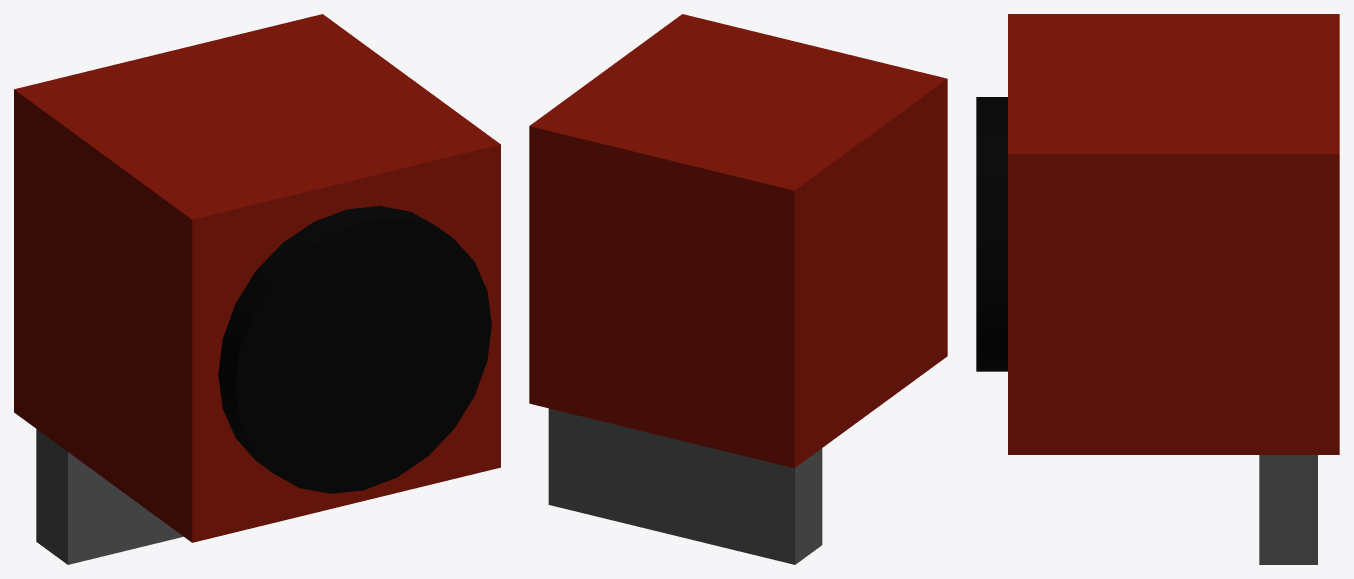
Rendered from heavy_gun_blockot_v1.fbx.
3 renders of one model, left to right at view 1: azimuth 30°, elevation 25°; view 2: azimuth 150°, elevation 25°; view 3: azimuth 270°, elevation 25°, orthographic. The views are drawn at different scales.
Parts seen in each view (by area): view 1: Куб.002, Цилиндр.001, Куб.003; view 2: Куб.002, Куб.003; view 3: Куб.002, Цилиндр.001, Куб.003.
Part boxes in pixels (x1=…): Куб.002: x1=14, y1=14, x2=500, y2=542; Цилиндр.001: x1=218, y1=206, x2=491, y2=493; Куб.003: x1=36, y1=429, x2=183, y2=564; Куб.002: x1=529, y1=14, x2=947, y2=468; Куб.003: x1=548, y1=408, x2=822, y2=564; Куб.002: x1=1008, y1=14, x2=1339, y2=454; Цилиндр.001: x1=976, y1=97, x2=1007, y2=371; Куб.003: x1=1259, y1=455, x2=1317, y2=564.
Size of the model in its own units: 636 by 879 by 697.
